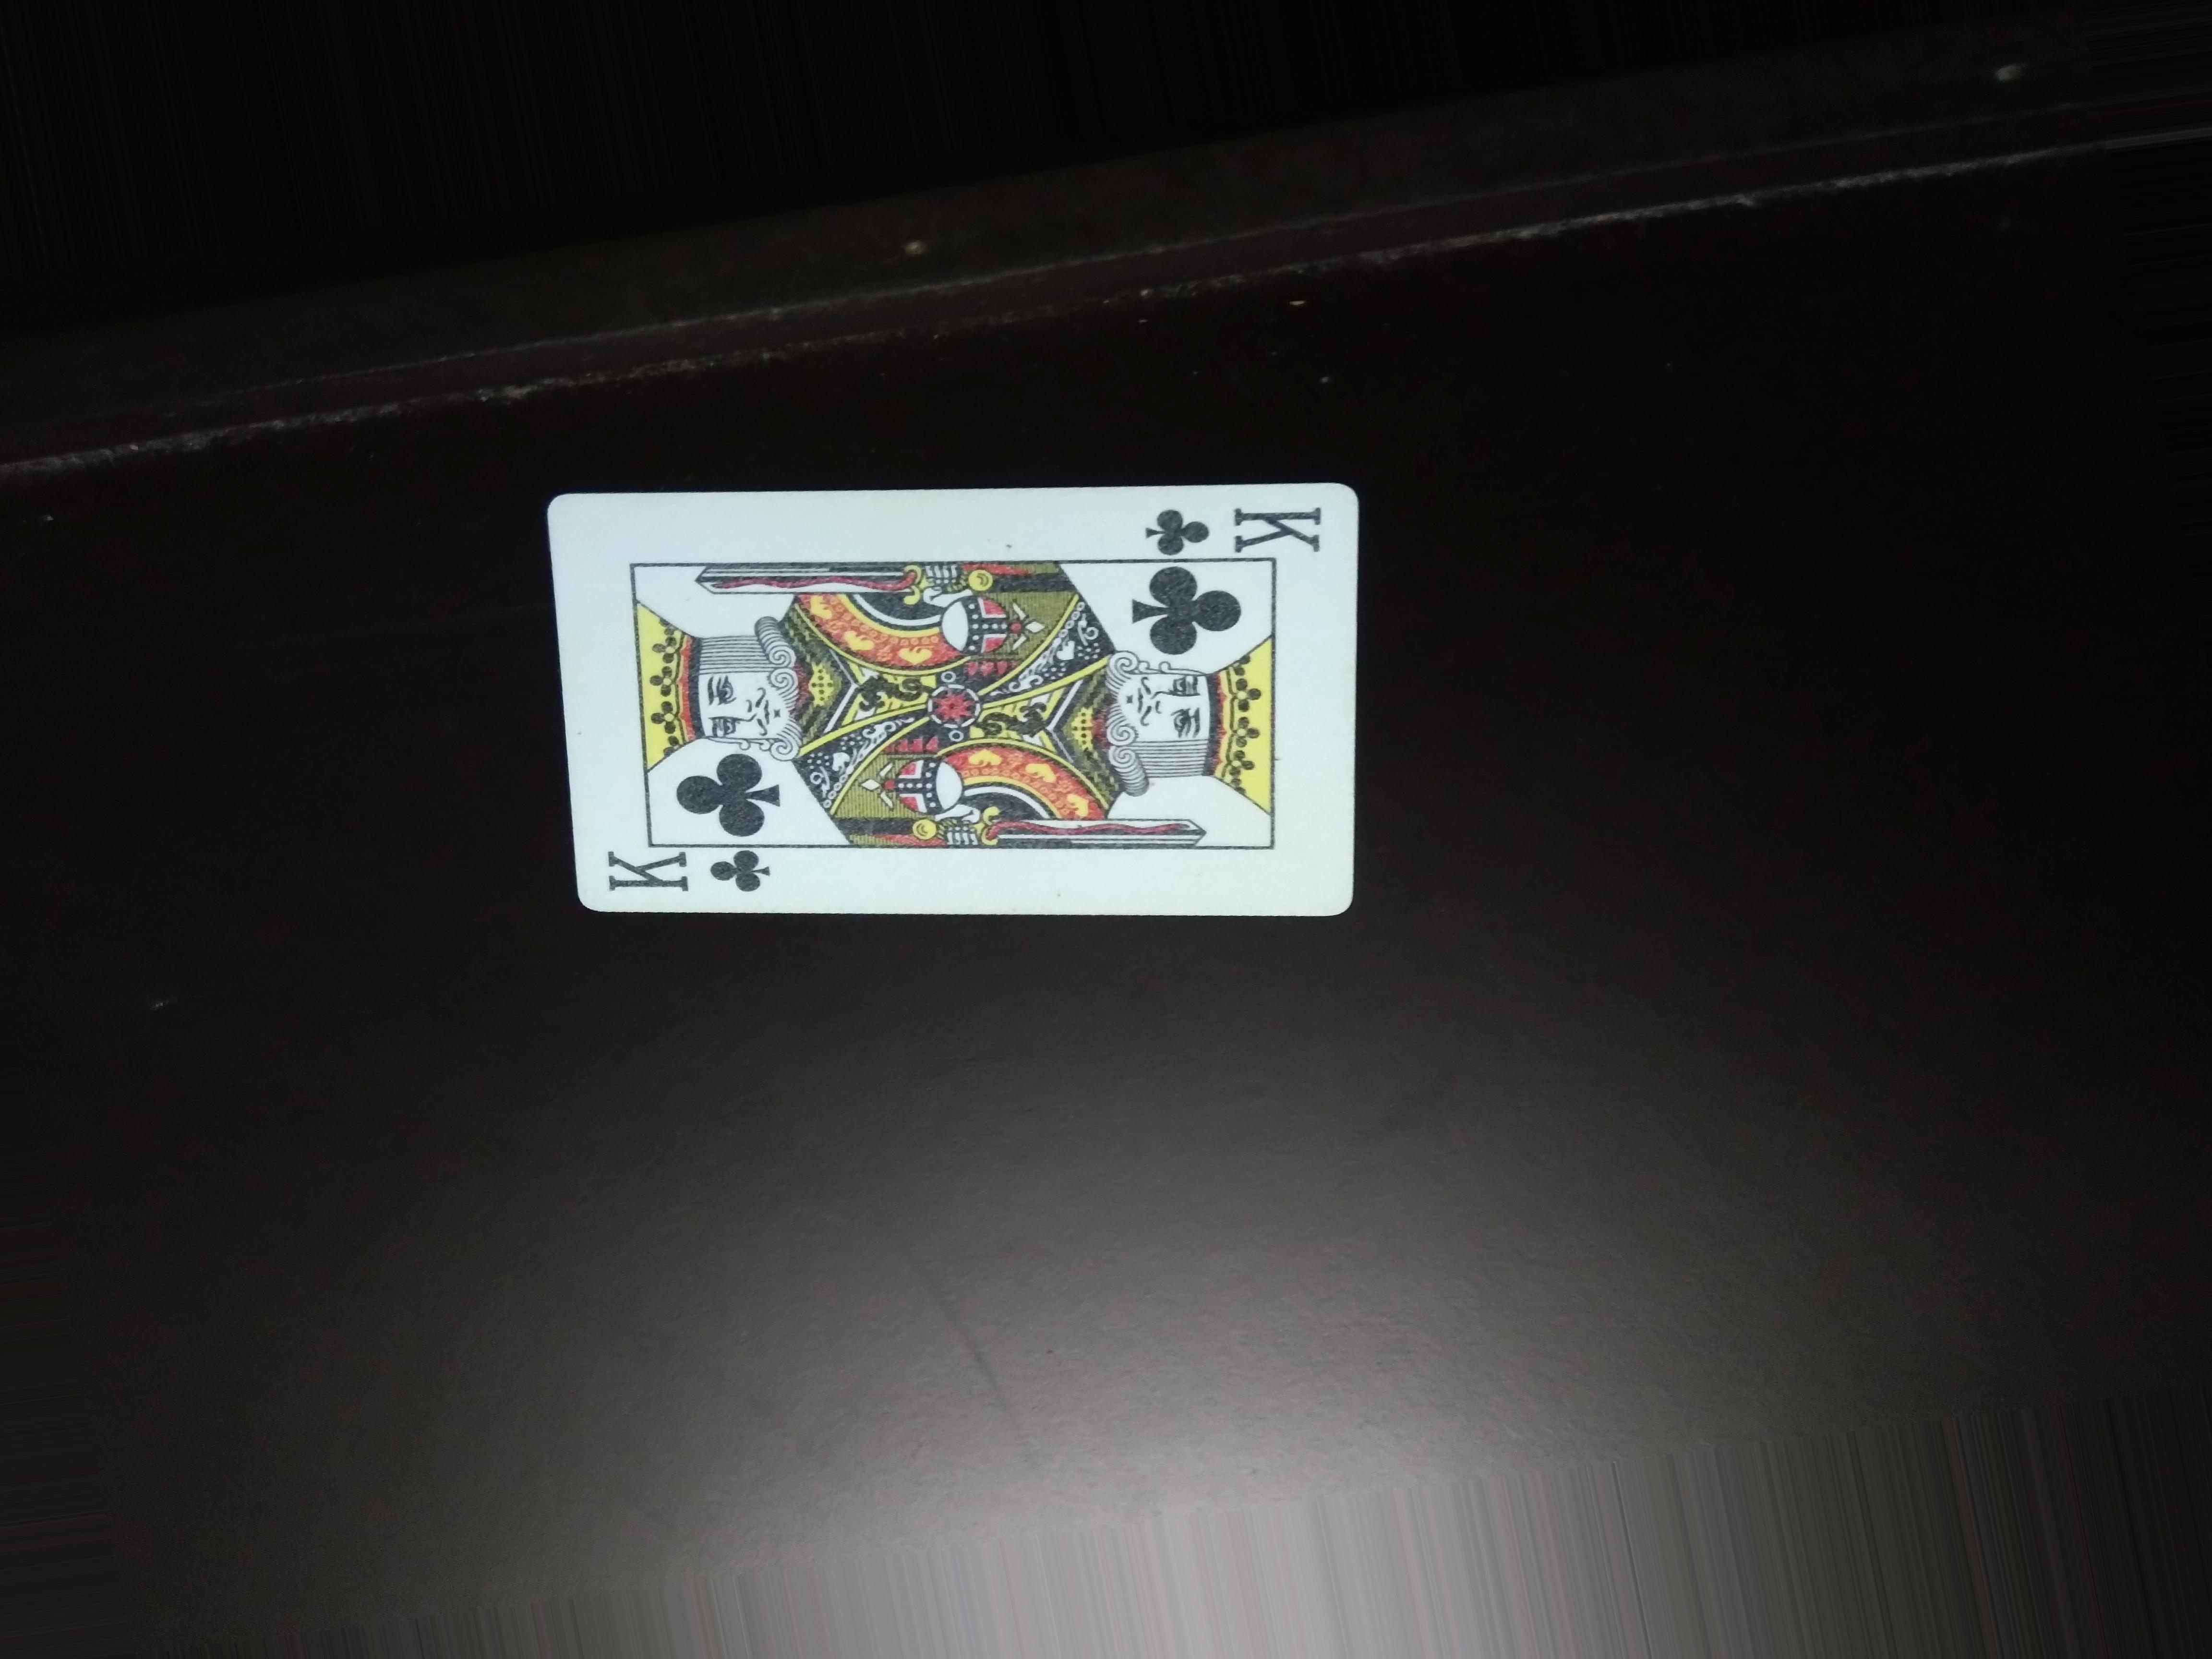KC: (1132, 488, 1334, 570)
